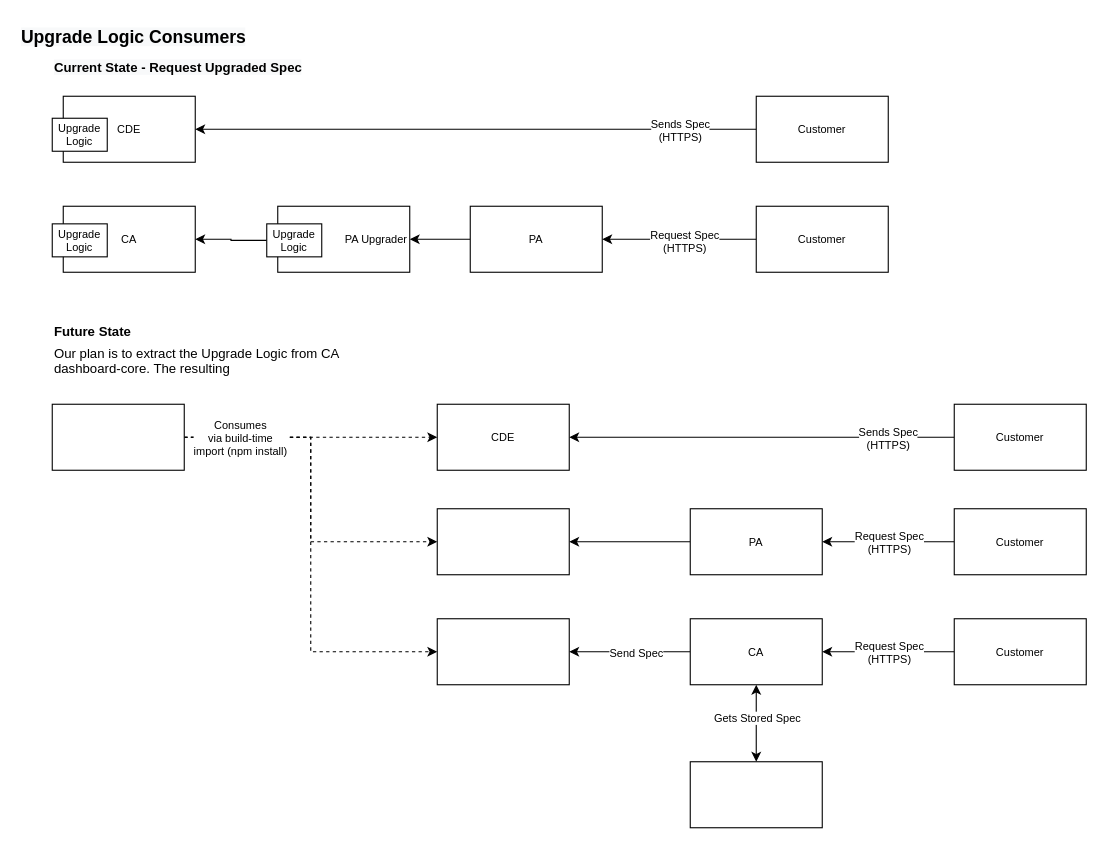
This 1106x847 diagram has some shape labels left out. Here are the shapes that lost their labels. From the top down, the centre of each, then its label:
[117,436]: npm upgrade package
[502,541]: pa dashboard-server / pa-content-service
[502,651]: dashboard-server
[755,794]: CM
